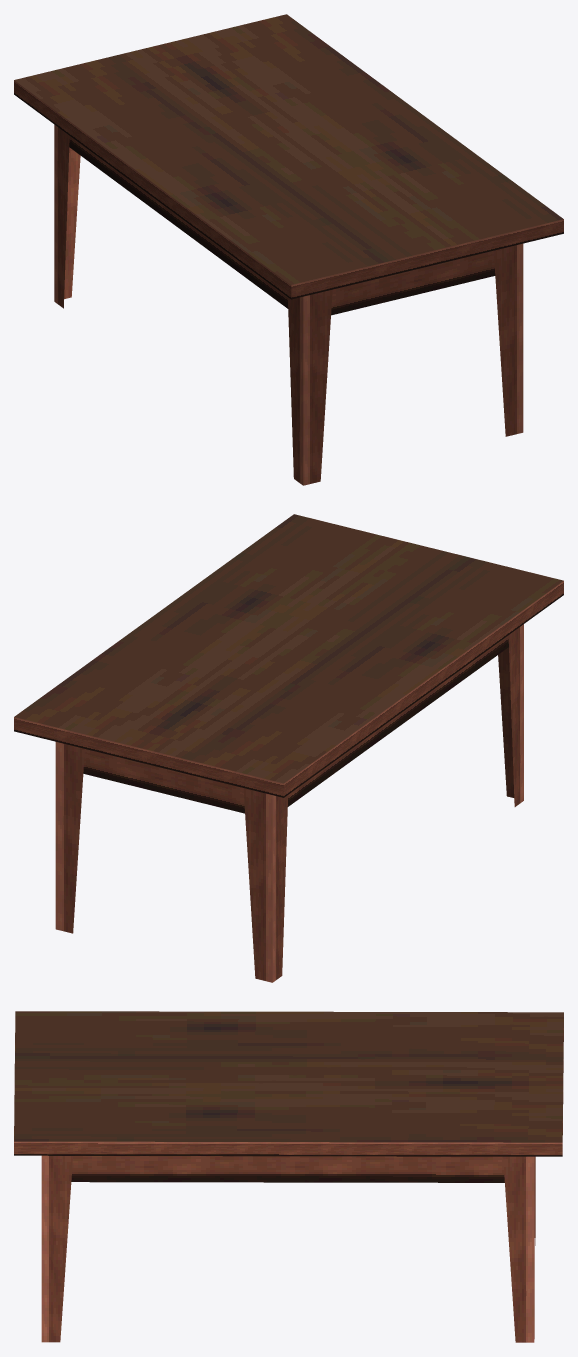
Rendered from primary_271.glb.
3 renders of one model, top to bottom at view 1: azimuth 30°, elevation 25°; view 2: azimuth 150°, elevation 25°; view 3: azimuth 270°, elevation 25°, orthographic.
Parts seen in each view (by area): view 1: Object; view 2: Object; view 3: Object.
Part boxes in pixels (<box>): Object: <box>14,14,563,485</box>; Object: <box>14,514,563,982</box>; Object: <box>14,1011,563,1342</box>.
Bounding box in the file's own units: 1.18 × 0.8928 × 2.09.
Materials: 4 (4 with a texture image).
